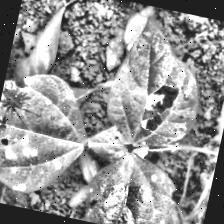Bean Rust: (103, 17, 209, 152), (0, 63, 100, 201), (78, 146, 184, 224)
